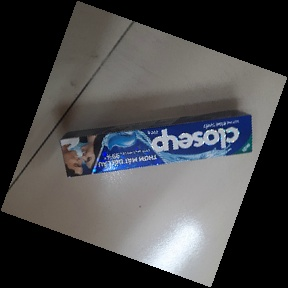CloseUp Tuyet: (58, 109, 254, 181)
